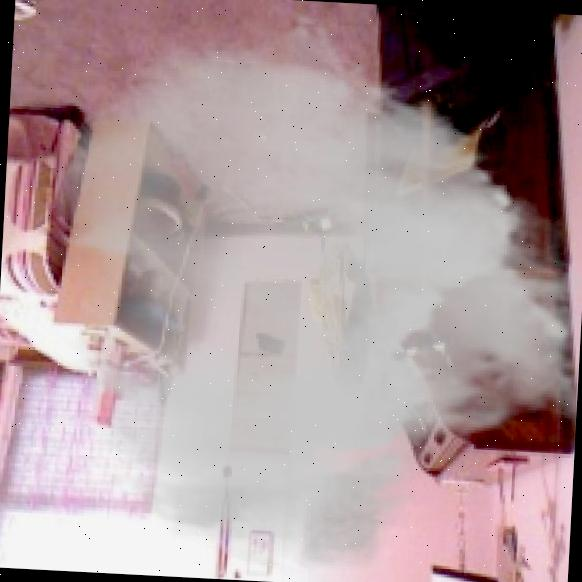smoke: (30, 0, 582, 582)
